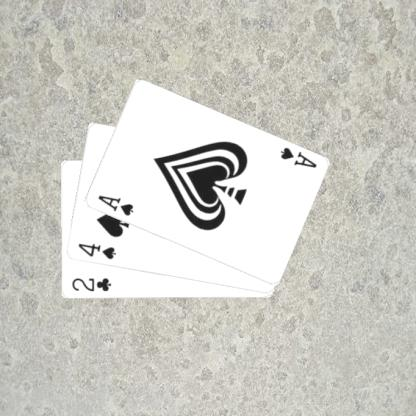2C: (69, 276, 112, 293)
4S: (75, 241, 117, 261)
AS: (277, 144, 318, 170), (95, 192, 134, 218)
